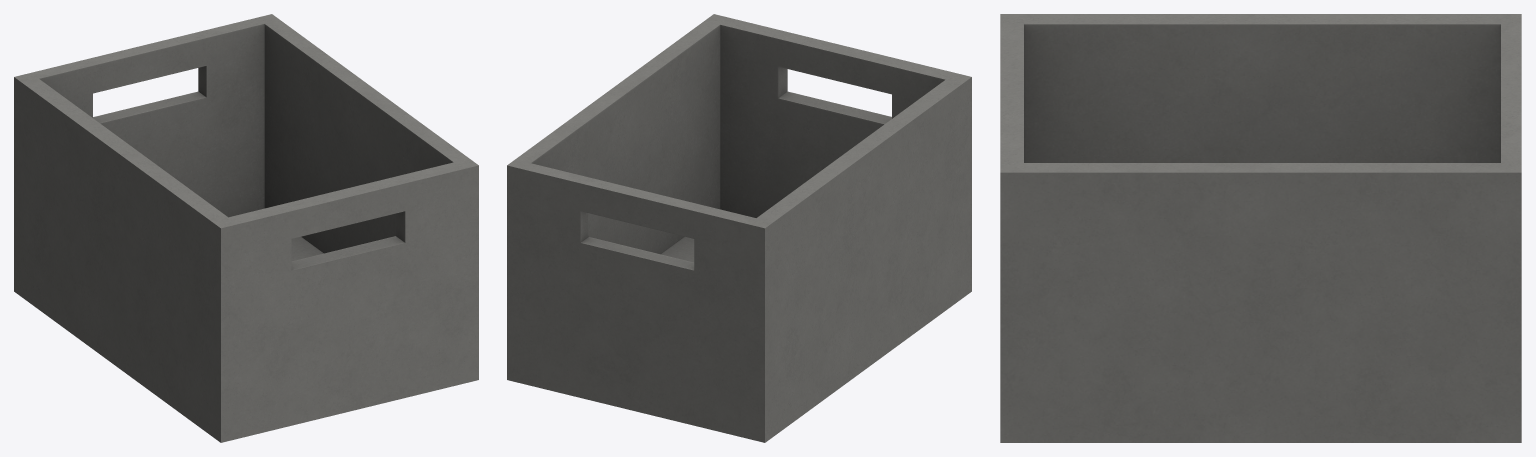
File: SM_PlasticBox06.fbx
The picture shows the model from 3 angles, left to right: view 1: azimuth 30°, elevation 25°; view 2: azimuth 150°, elevation 25°; view 3: azimuth 270°, elevation 25°; orthographic projection. The views are drawn at different scales.
Visible parts, largest first — view 1: SM_PlasticBox06_LOD0; view 2: SM_PlasticBox06_LOD0; view 3: SM_PlasticBox06_LOD0.
Boxes of the visible parts, box(x1,y1,x2,y2) form: SM_PlasticBox06_LOD0: box(14, 14, 478, 442); SM_PlasticBox06_LOD0: box(507, 14, 971, 442); SM_PlasticBox06_LOD0: box(1000, 14, 1521, 442).
Size of the model in its own units: 40.07 by 55.66 by 31.85.
